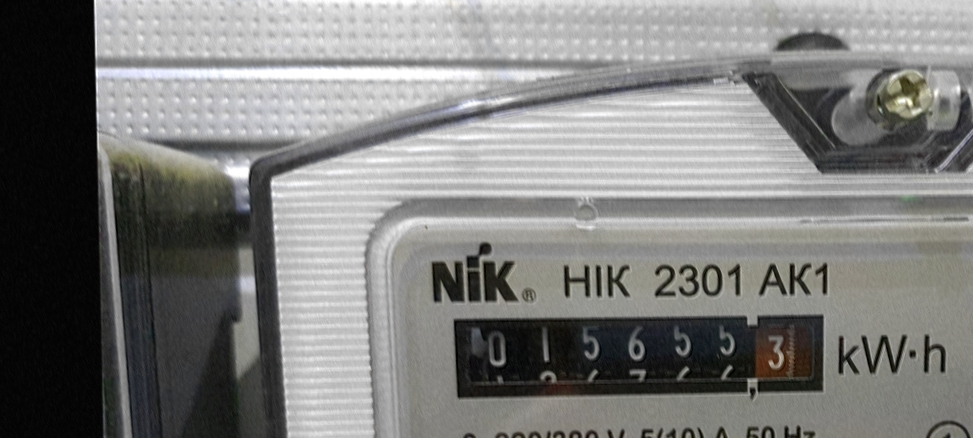0: (484, 327, 510, 369)
1: (536, 325, 555, 364)
3: (766, 334, 786, 370)
5: (578, 325, 603, 361), (671, 325, 695, 358), (718, 324, 737, 357)
6: (625, 325, 649, 362)
screen: (440, 296, 840, 415)
